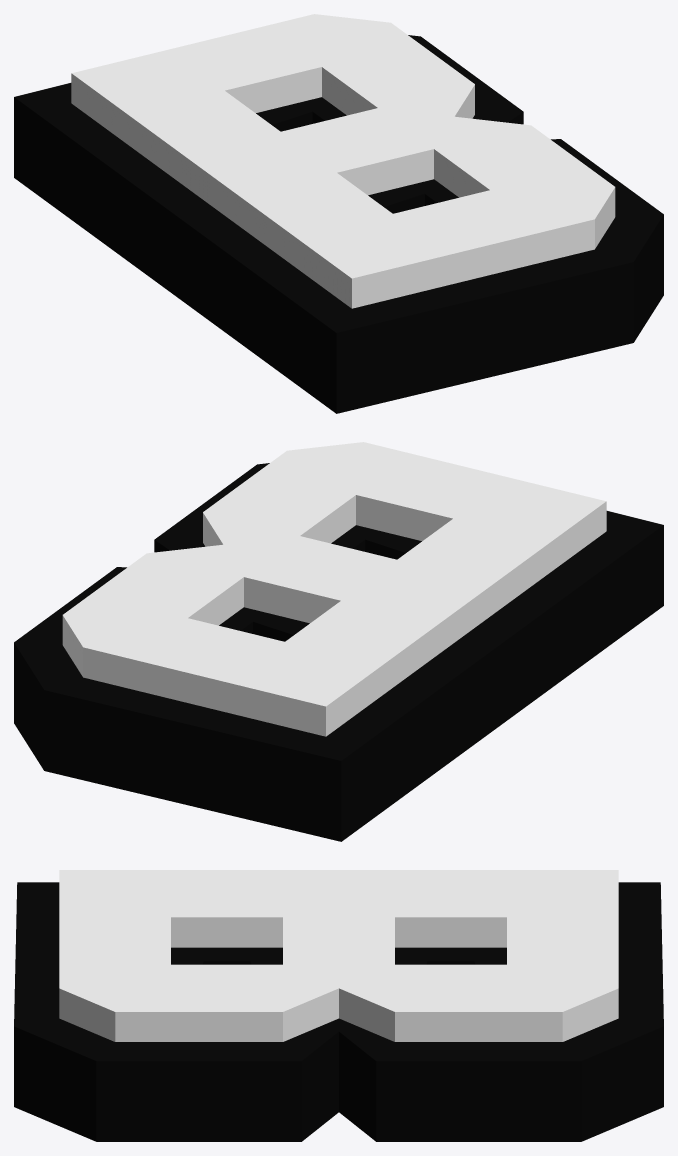
File: txt_b.glb
3 renders of one model, top to bottom at view 1: azimuth 30°, elevation 25°; view 2: azimuth 150°, elevation 25°; view 3: azimuth 270°, elevation 25°, orthographic.
Visible parts, largest first — view 1: B.001; view 2: B.001; view 3: B.001.
Part boxes in pixels (left/top/right/bottom): B.001: left=14, top=14, right=663, bottom=413; B.001: left=14, top=442, right=663, bottom=841; B.001: left=14, top=870, right=663, bottom=1141.
Bounding box in the file's own units: 0.6802 × 0.1966 × 1.05.
Materials: 1 (1 with a texture image).
